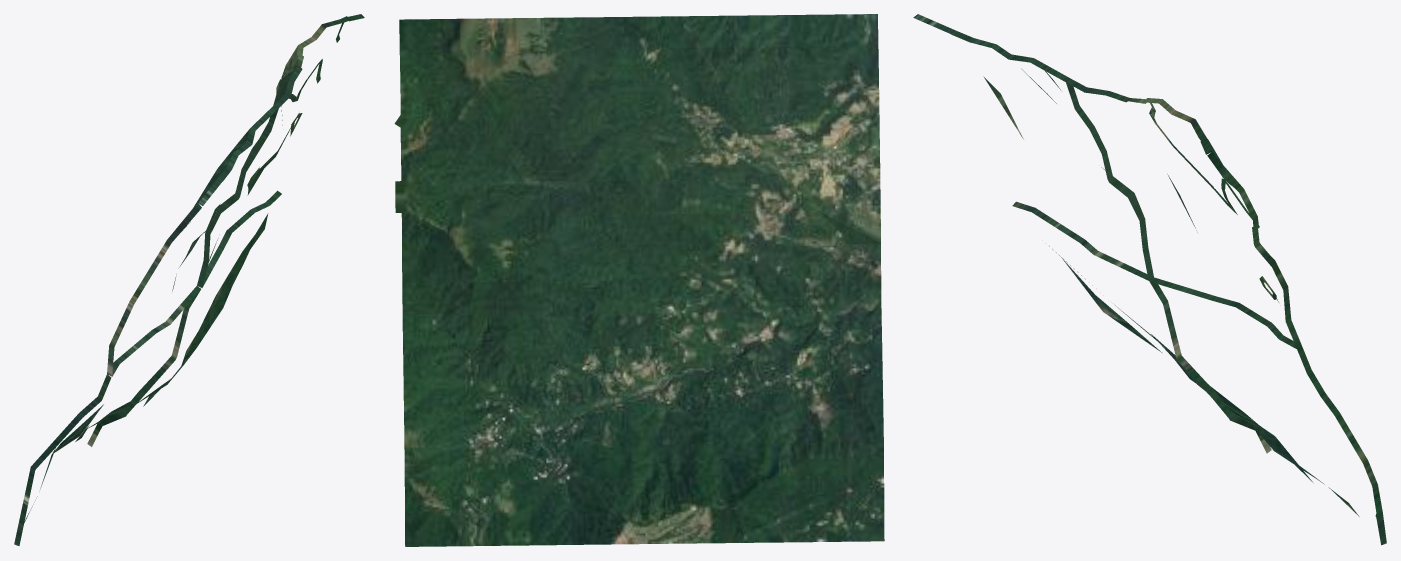
3 renders of one model, left to right at view 1: azimuth 30°, elevation 25°; view 2: azimuth 150°, elevation 25°; view 3: azimuth 270°, elevation 25°, orthographic. The views are drawn at different scales.
Bounding box in the file's own units: 4689 × 4700 × 4413.
1 material, 1 textured.
